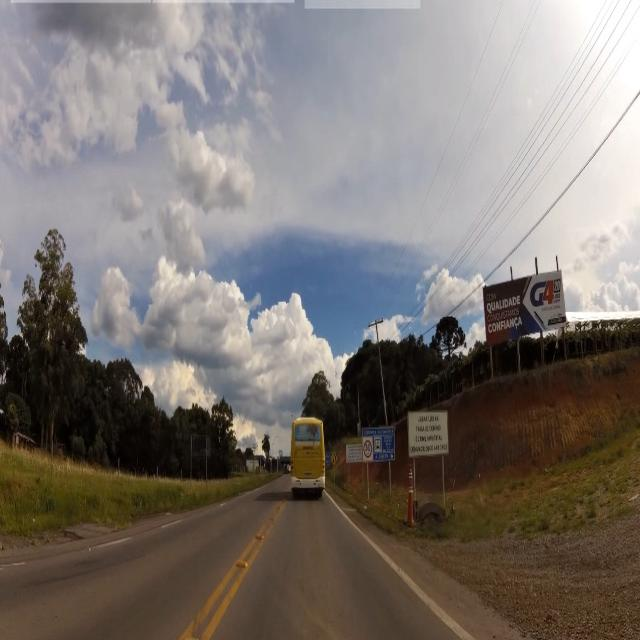E-5: (408, 410, 458, 460)
R-19: (362, 438, 372, 464)
